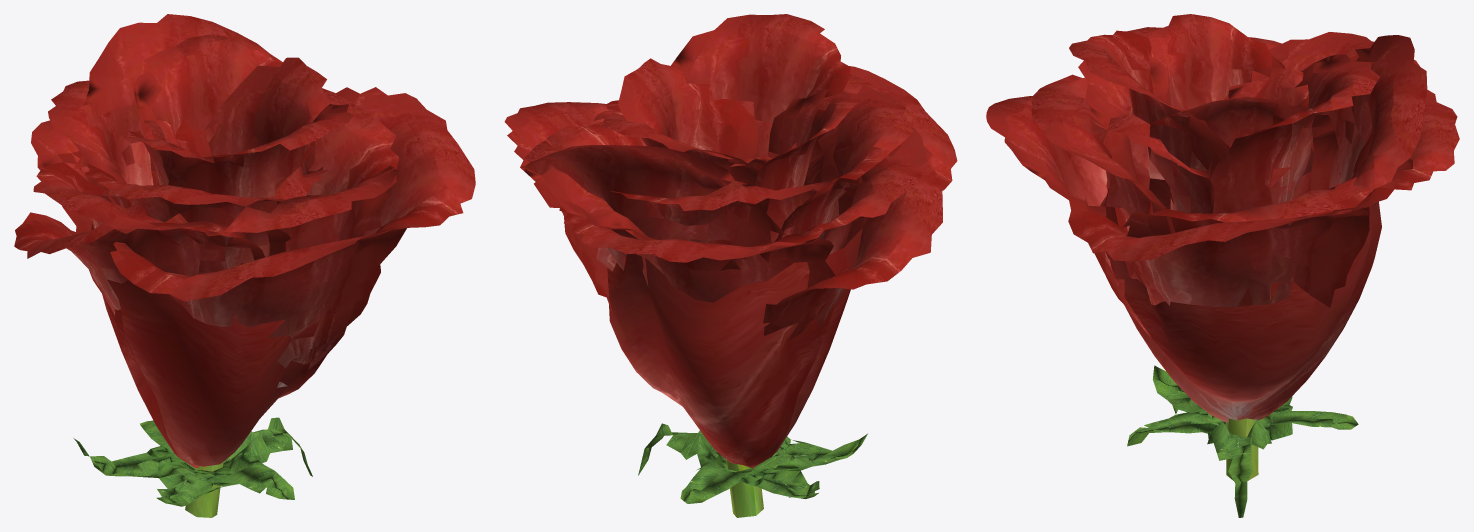
The picture shows the model from 3 angles, left to right: view 1: azimuth 30°, elevation 25°; view 2: azimuth 150°, elevation 25°; view 3: azimuth 270°, elevation 25°; orthographic projection. The views are drawn at different scales.
Visible parts, largest first — view 1: 5d4ad325; view 2: 5d4ad325; view 3: 5d4ad325.
Part boxes in pixels (box(x1,y1,x2,y2)): 5d4ad325: box(14, 14, 475, 517); 5d4ad325: box(504, 14, 957, 517); 5d4ad325: box(986, 14, 1459, 517).
Bounding box in the file's own units: 0.0962 × 0.0958 × 0.0927.
Materials: 3 (3 with a texture image).
